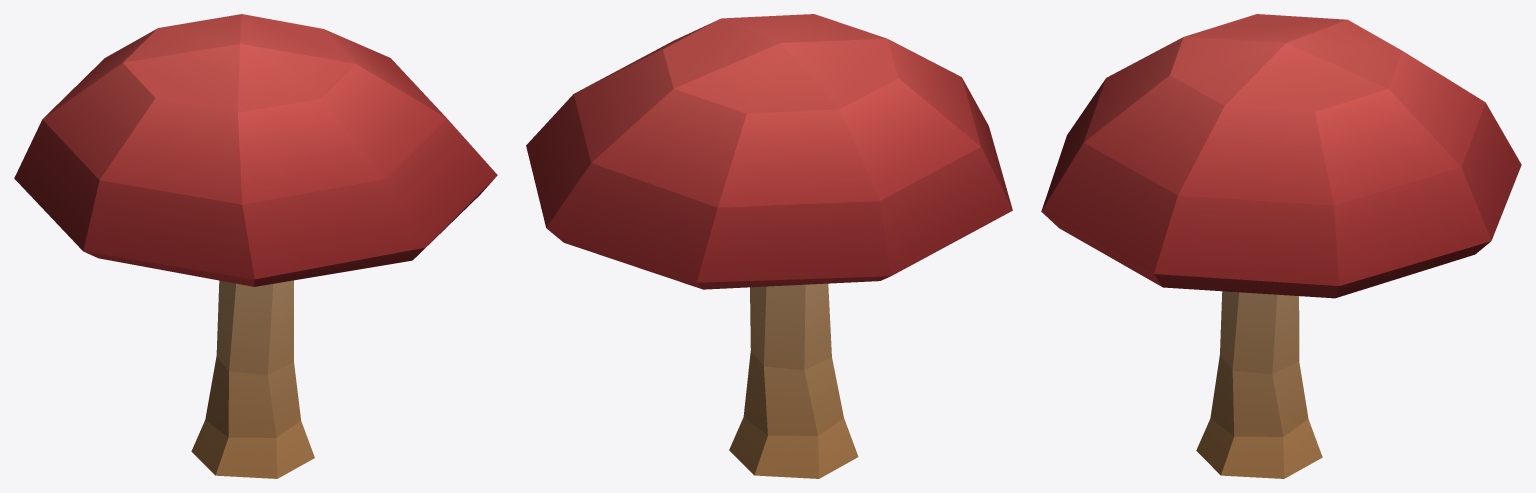
File: grzyb3.fbx
3 views of the same model, side by side, from view 1: azimuth 30°, elevation 25°; view 2: azimuth 150°, elevation 25°; view 3: azimuth 270°, elevation 25° (orthographic). The views are drawn at different scales.
Visible parts, largest first — view 1: grzyb3, Circle.002; view 2: grzyb3, Circle.002; view 3: grzyb3, Circle.002.
Part boxes in pixels (box(x1,y1,x2,y2)): grzyb3: box(14, 14, 497, 286); Circle.002: box(191, 280, 314, 478); grzyb3: box(526, 14, 1012, 289); Circle.002: box(729, 283, 858, 478); grzyb3: box(1041, 14, 1521, 298); Circle.002: box(1196, 291, 1322, 478).
Bounding box in the file's own units: 460 × 434 × 460.
